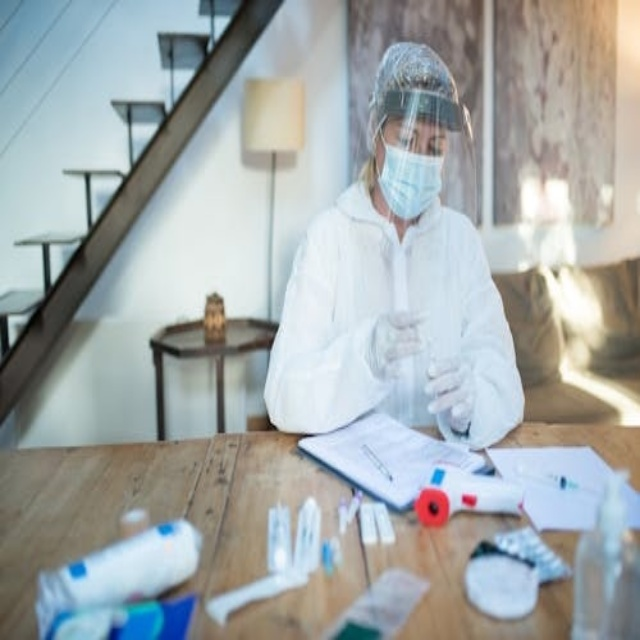Guantes: (370, 311, 428, 378), (425, 359, 476, 432)
Mascara: (376, 124, 445, 220)
Sin_gafas: (388, 125, 449, 163)
